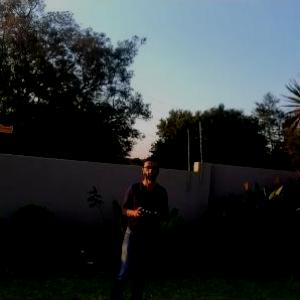follow: (109, 150, 176, 299)
